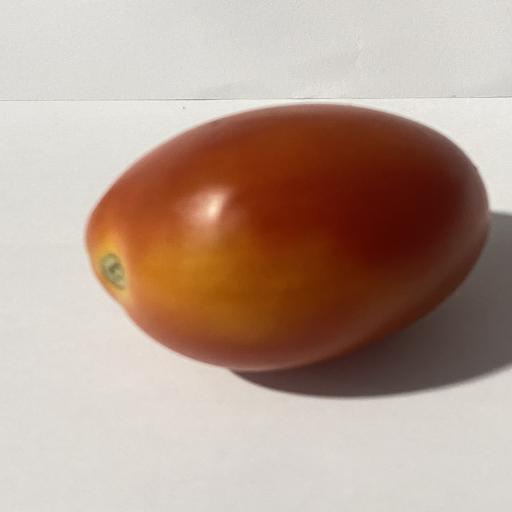ripe: (86, 104, 489, 371)
